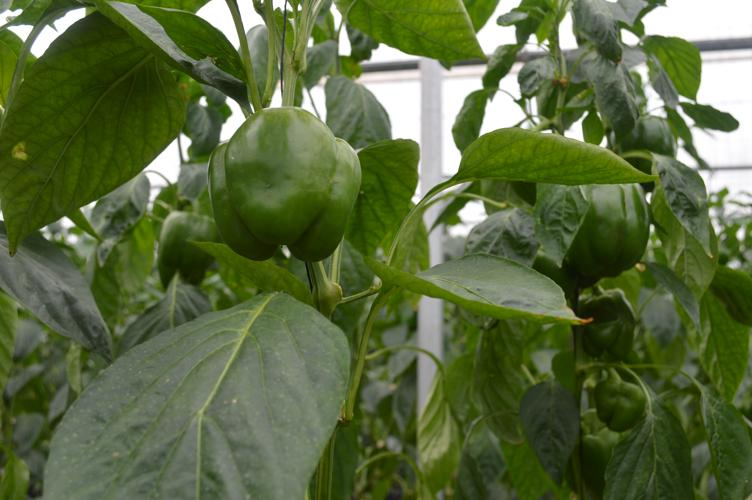BellPepper: (206, 103, 360, 266), (546, 153, 644, 285), (141, 198, 228, 301), (568, 276, 648, 363), (583, 361, 659, 434)
